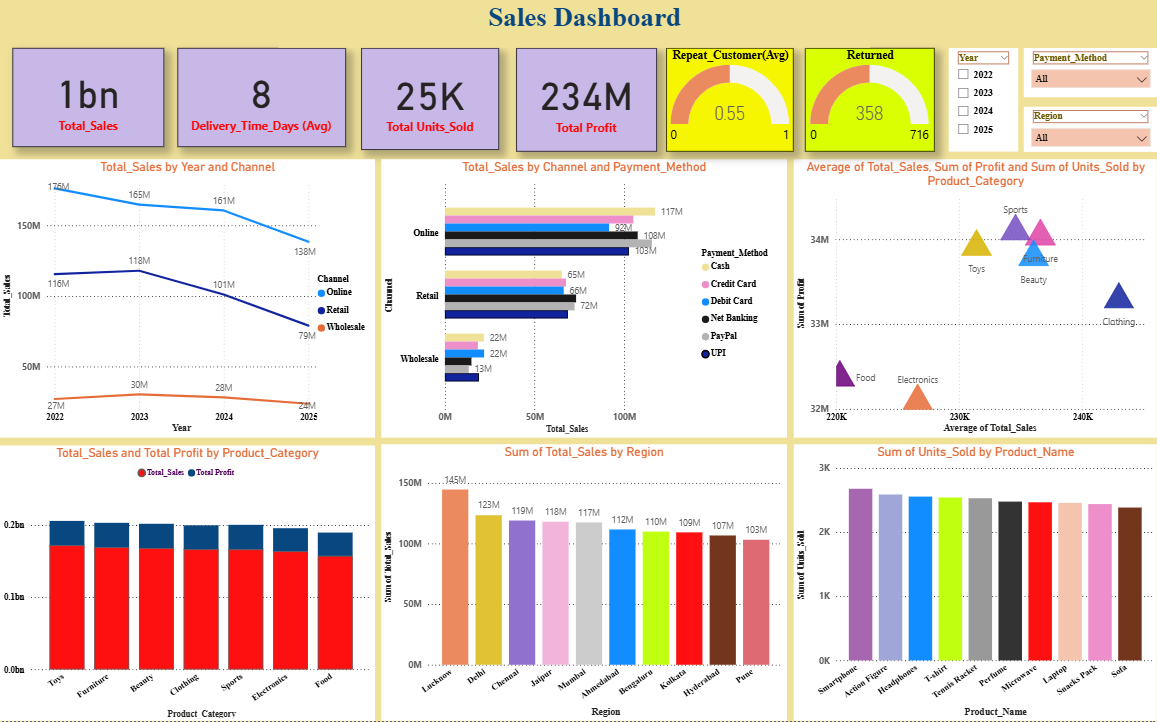

Layout of this report page (visuals, bound fields, positions):
{"tool":"powerbi","page":{"name":"Dashboard","canvas":[1600,1000],"ordinal":0},"visuals":[{"type":"card","fields":{"Values":["Sum(sales_data_india.Total_Sales)"]},"box":[16.6,69,209.5,136.7],"z":0},{"type":"card","fields":{"Values":["Sum(sales_data_india.Profit)"]},"box":[712.8,69,194.2,143.1],"z":1000},{"type":"card","fields":{"Values":["Sum(sales_data_india.Units_Sold)"]},"box":[499.4,69,190.3,140.5],"z":2000},{"type":"card","fields":{"Values":["Avg(sales_data_india.Delivery_Time_Days)"]},"box":[245.2,69,232.5,136.7],"z":3000},{"type":"lineChart","fields":{"Y":["Sum(sales_data_india.Total_Sales)"],"Series":["sales_data_india.Channel"],"Category":["sales_data_india.Date.Variation.Date Hierarchy.Year"]},"box":[0,223.5,518.6,384.5],"z":4000},{"type":"clusteredColumnChart","fields":{"Y":["Sum(sales_data_india.Total_Sales)"],"Category":["sales_data_india.Region"]},"box":[527.5,617,560.8,383.2],"z":5000},{"type":"columnChart","fields":{"Category":["sales_data_india.Product_Category"],"Y":["Sum(sales_data_india.Total_Sales)","Sum(sales_data_india.Profit)"]},"box":[0,618.2,518.6,381.9],"z":6000},{"type":"columnChart","fields":{"Category":["sales_data_india.Product_Name"],"Y":["Sum(sales_data_india.Units_Sold)"]},"box":[1097.2,617,503.3,383.2],"z":7000},{"type":"scatterChart","fields":{"X":["sales_data_india.Total_Sales"],"Series":["sales_data_india.Product_Category"],"Y":["Sum(sales_data_india.Profit)"],"Size":["Sum(sales_data_india.Units_Sold)"]},"box":[1097.2,223.5,503.3,384.5],"z":8000},{"type":"clusteredBarChart","fields":{"Category":["sales_data_india.Channel"],"Y":["Sum(sales_data_india.Total_Sales)"],"Series":["sales_data_india.Payment_Method"]},"box":[527.5,223.5,560.8,384.5],"z":9000},{"type":"gauge","title":"Repeat_Customer(Avg)","fields":{"Y":["Avg(sales_data_india.Repeat_Customer)"]},"box":[921,69,176.3,143.1],"z":10000},{"type":"gauge","title":" Returned","fields":{"Y":["Sum(sales_data_india.Returned)"]},"box":[1112.6,69,178.8,143.1],"z":11000},{"type":"slicer","fields":{"Values":["sales_data_india.Date.Variation.Date Hierarchy.Year"]},"box":[1310.6,69,95.8,143.1],"z":12000},{"type":"slicer","fields":{"Values":["sales_data_india.Payment_Method"]},"box":[1415.3,69,185.2,67.7],"z":13000},{"type":"slicer","fields":{"Values":["sales_data_india.Region"]},"box":[1415.3,149.4,185.2,62.6],"z":14000},{"type":"textbox","box":[384.5,0,817.5,69],"z":15000}]}

Visuals, with their boxes in screenshot pixels (x1, y1, x2, y2), scaled from the page's 1600x1000 canvas onto the 1157x722 screenshot:
card - Sum(sales_data_india.Total_Sales): bbox=[12, 50, 163, 149]
card - Sum(sales_data_india.Profit): bbox=[515, 50, 656, 153]
card - Sum(sales_data_india.Units_Sold): bbox=[361, 50, 499, 151]
card - Avg(sales_data_india.Delivery_Time_Days): bbox=[177, 50, 345, 149]
lineChart - Sum(sales_data_india.Total_Sales) x sales_data_india.Channel: bbox=[0, 161, 375, 439]
clusteredColumnChart - Sum(sales_data_india.Total_Sales) x sales_data_india.Region: bbox=[381, 445, 787, 721]
columnChart - sales_data_india.Product_Category x Sum(sales_data_india.Total_Sales): bbox=[0, 446, 375, 721]
columnChart - sales_data_india.Product_Name x Sum(sales_data_india.Units_Sold): bbox=[793, 445, 1156, 721]
scatterChart - sales_data_india.Total_Sales x sales_data_india.Product_Category: bbox=[793, 161, 1156, 439]
clusteredBarChart - sales_data_india.Channel x Sum(sales_data_india.Total_Sales): bbox=[381, 161, 787, 439]
"Repeat_Customer(Avg)" gauge: bbox=[666, 50, 793, 153]
" Returned" gauge: bbox=[805, 50, 934, 153]
slicer - sales_data_india.Date.Variation.Date Hierarchy.Year: bbox=[948, 50, 1017, 153]
slicer - sales_data_india.Payment_Method: bbox=[1023, 50, 1156, 99]
slicer - sales_data_india.Region: bbox=[1023, 108, 1156, 153]
textbox: bbox=[278, 0, 869, 50]
